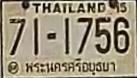1: (64, 17, 69, 54), (34, 18, 38, 54)
5: (94, 16, 110, 53)
6: (113, 16, 128, 52)
7: (76, 17, 92, 54), (9, 18, 25, 54)
AYA: (24, 57, 117, 76)
